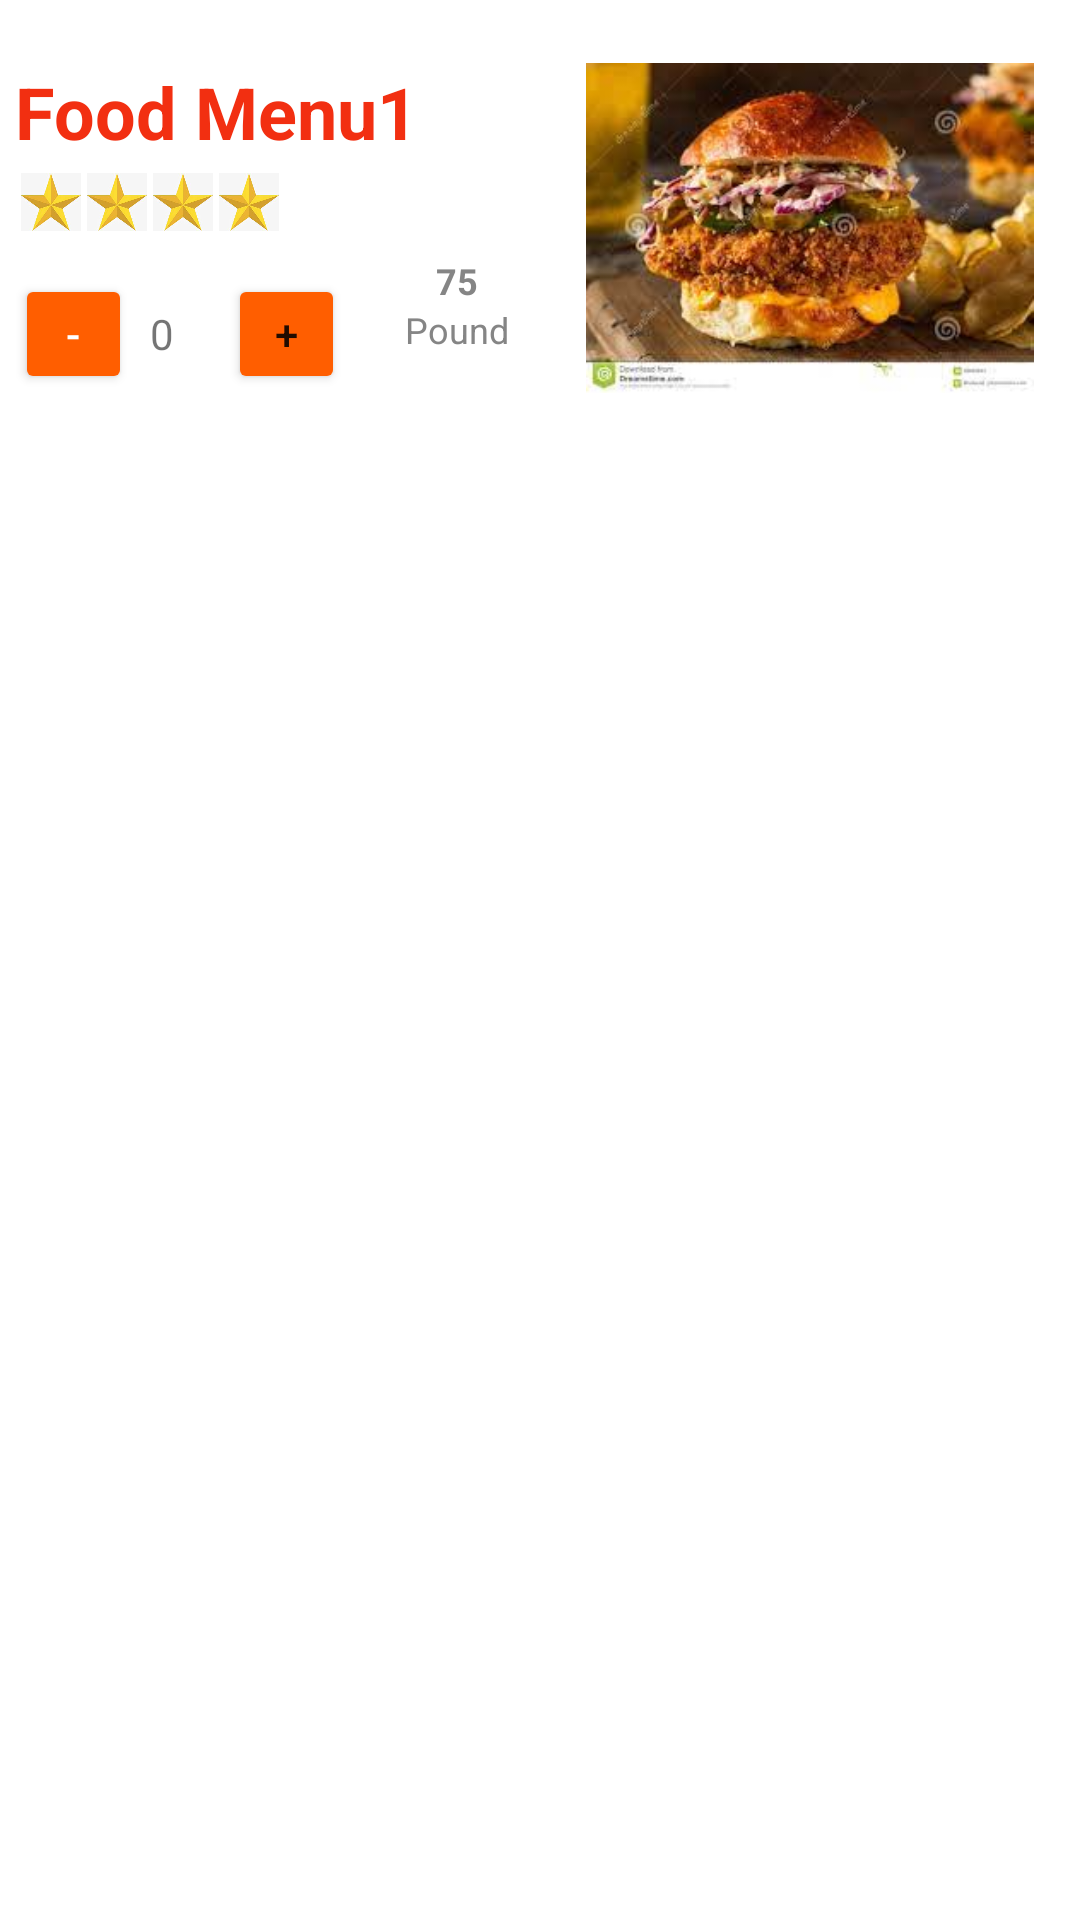

Icons on this 1080 × 1920 Android screen, each with the point to tap as (x=x, y=y):
rate: (x=51, y=202), (x=117, y=202), (x=183, y=202), (x=249, y=202)
